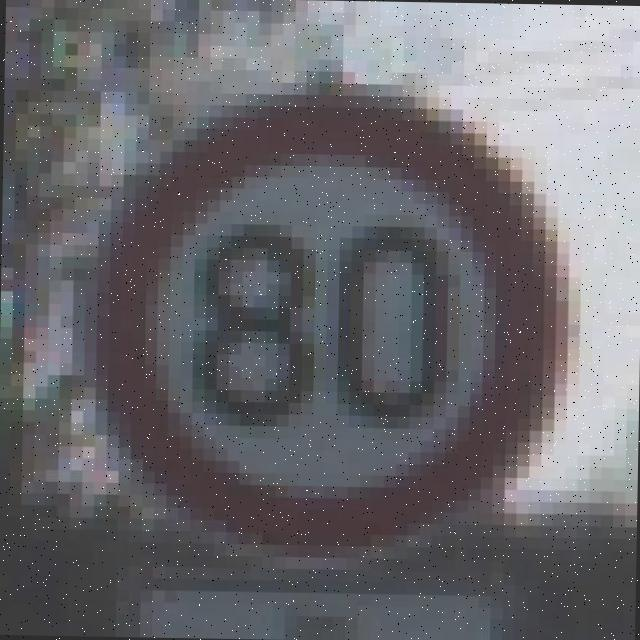Ograniczenie predkosci do 80: (83, 93, 570, 550)
